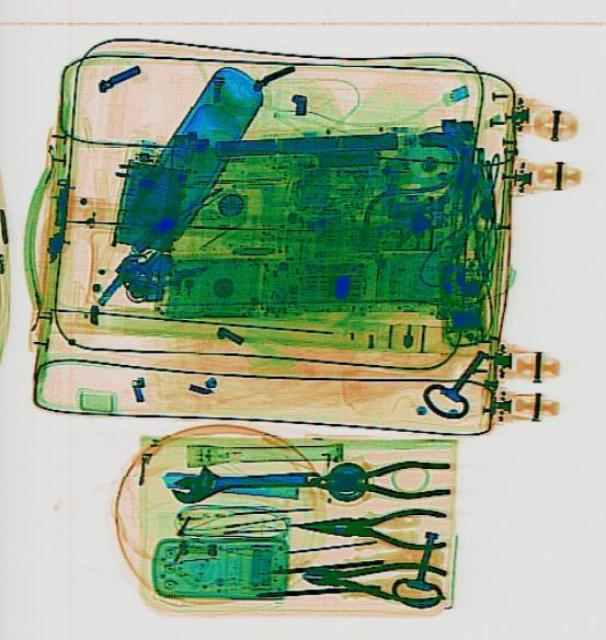Pliers: (296, 550, 444, 606), (284, 501, 444, 549), (307, 459, 450, 499)
Wrench: (167, 458, 317, 502)
